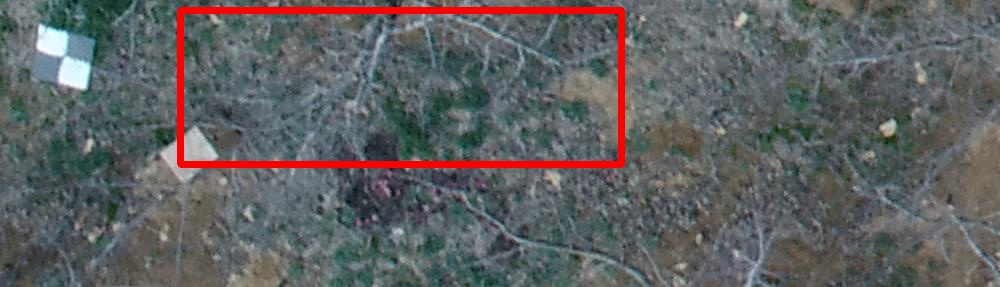apple: (180, 10, 621, 164)
